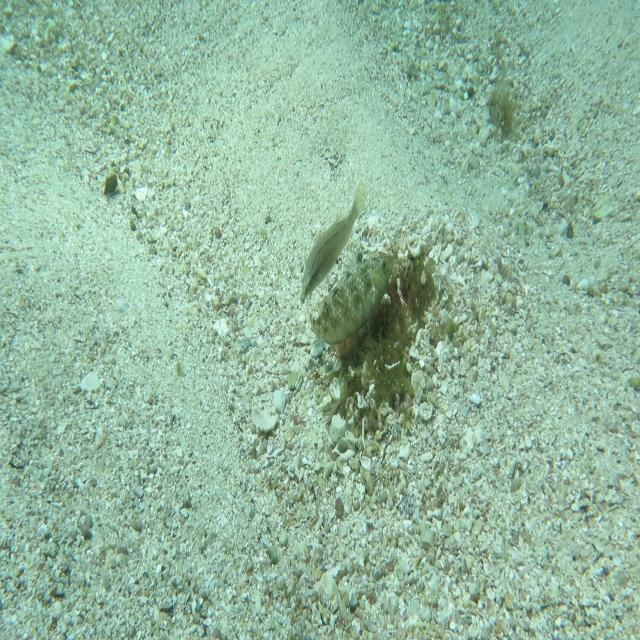BEND: (309, 248, 395, 348)
female: (299, 175, 371, 306)
nest: (312, 230, 445, 443)
